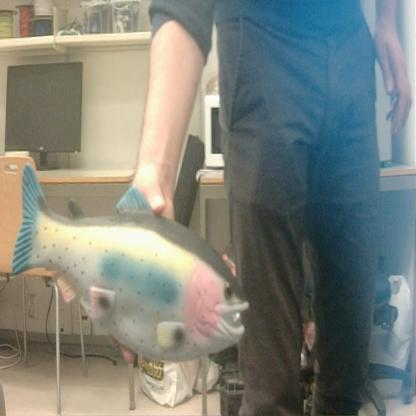rubberfish: (8, 159, 253, 366)
